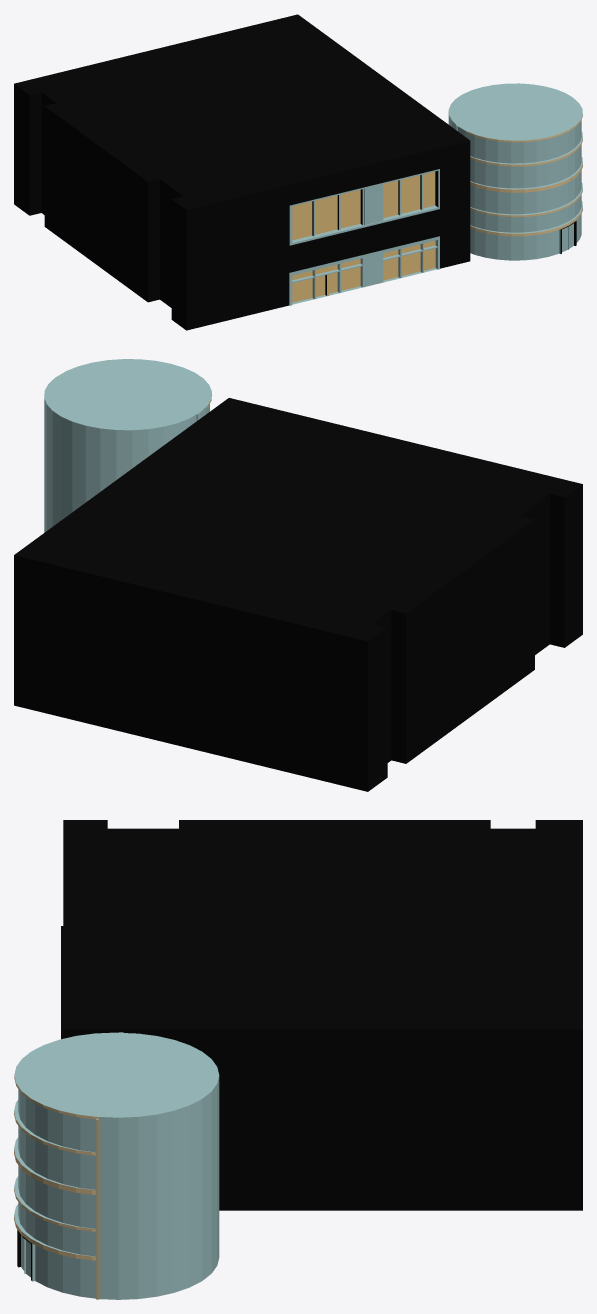
The model's file is gatronomia.fbx.
3 views of the same model, one above another, from view 1: azimuth 30°, elevation 25°; view 2: azimuth 150°, elevation 25°; view 3: azimuth 270°, elevation 25° (orthographic). The views are drawn at different scales.
Visible parts, largest first — view 1: Cube, Cilindro; view 2: Cube, Cilindro; view 3: Cube, Cilindro.
Boxes of the visible parts, <box> form: Cube: <box>14,14,470,330</box>; Cilindro: <box>448,83,582,260</box>; Cube: <box>14,398,582,791</box>; Cilindro: <box>44,359,211,532</box>; Cube: <box>61,820,582,1210</box>; Cilindro: <box>14,1032,219,1299</box>.
Bounding box in the file's own units: 4844 × 1384 × 3911.
